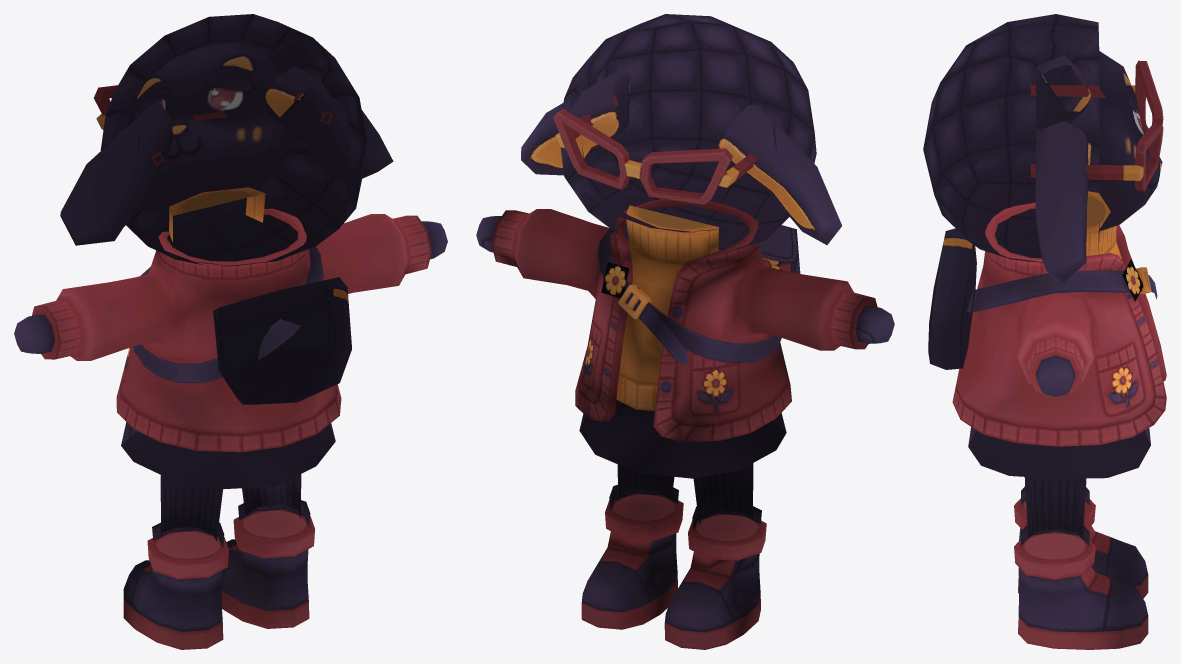
File: mvr_petflw2501-et01.glb
The picture shows the model from 3 angles, left to right: view 1: azimuth 30°, elevation 25°; view 2: azimuth 150°, elevation 25°; view 3: azimuth 270°, elevation 25°; orthographic projection. The views are drawn at different scales.
Parts seen in each view (by area): view 1: MonsterMesh; view 2: MonsterMesh; view 3: MonsterMesh.
Boxes of the visible parts, box(x1,y1,x2,y2) form: MonsterMesh: box(14, 14, 447, 649); MonsterMesh: box(476, 14, 894, 649); MonsterMesh: box(923, 14, 1166, 649).
Size of the model in its own units: 0.6789 by 0.9053 by 0.3415.
1 material, 1 textured.
